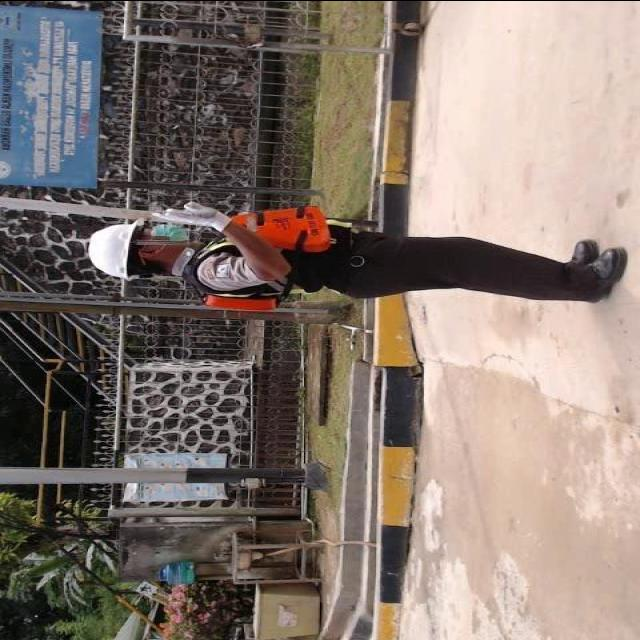helmet: (74, 205, 148, 290)
